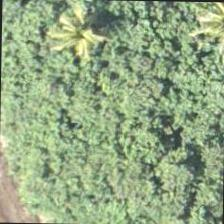Kelapa_Sawit: (85, 74, 177, 166), (32, 0, 124, 81)
